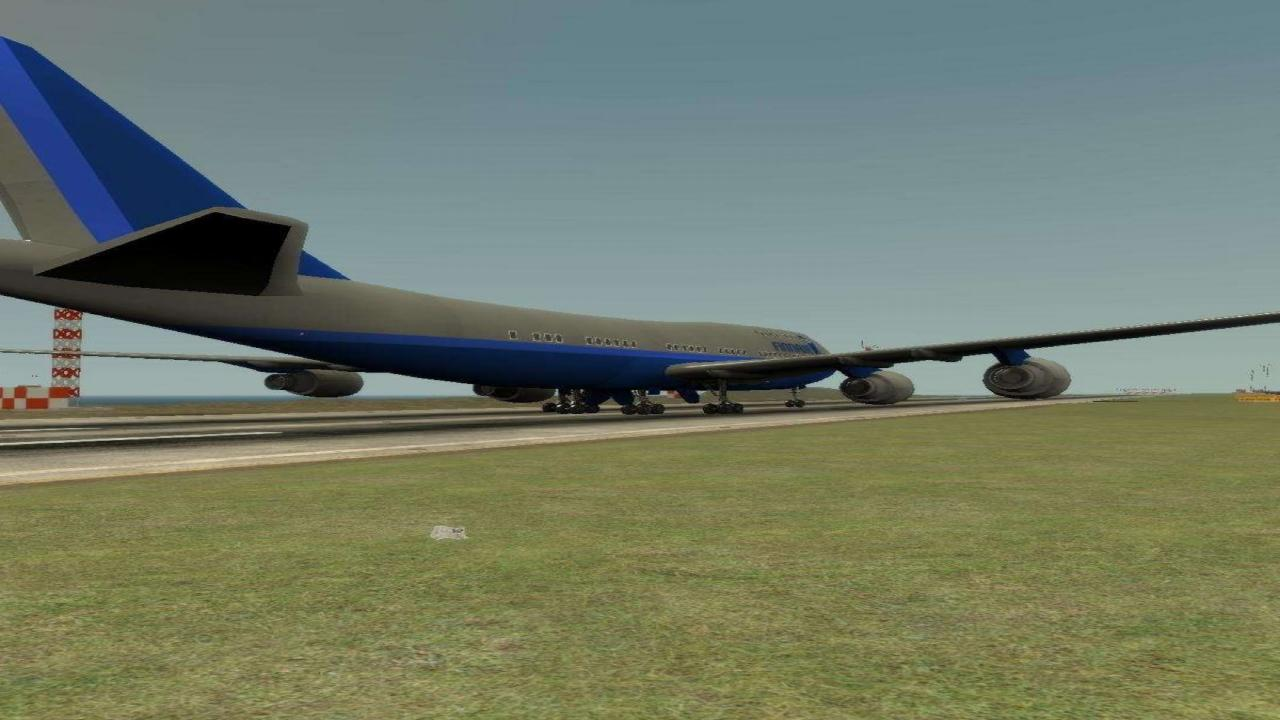Airplane: (0, 30, 1280, 429)
